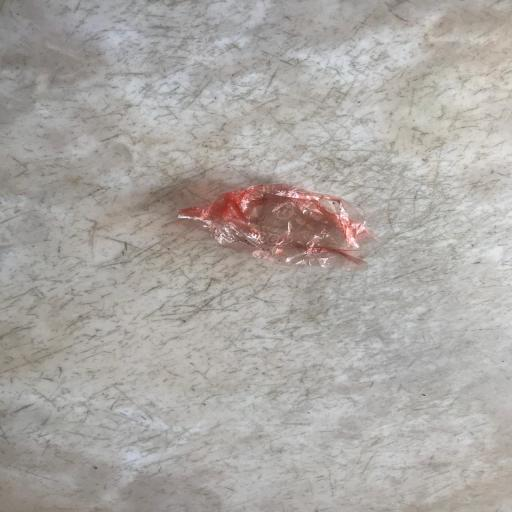waste: (168, 163, 387, 277)
